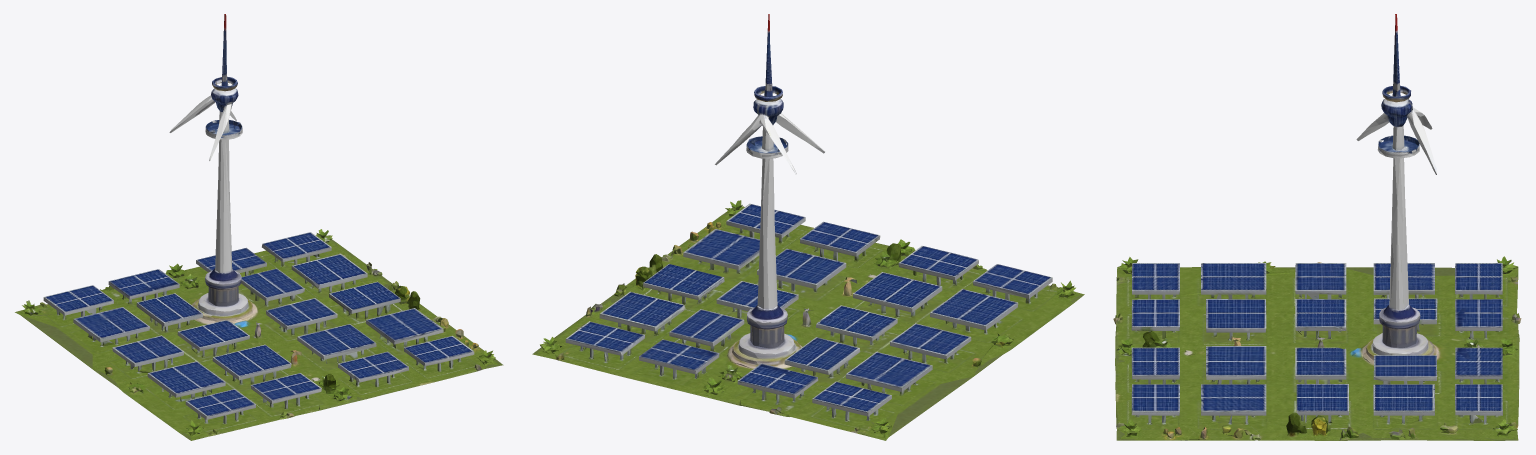
Rendered from Solar.glb.
The picture shows the model from 3 angles, left to right: view 1: azimuth 30°, elevation 25°; view 2: azimuth 150°, elevation 25°; view 3: azimuth 270°, elevation 25°; orthographic projection. The views are drawn at different scales.
Visible parts, largest first — view 1: output_unwrapped; view 2: output_unwrapped; view 3: output_unwrapped.
Part boxes in pixels (x1,y1,x2,y2): output_unwrapped: (15,14,503,440); output_unwrapped: (532,14,1084,440); output_unwrapped: (1113,14,1521,440).
Size of the model in its own units: 1.9 by 1.74 by 1.89.
1 material, 1 textured.
